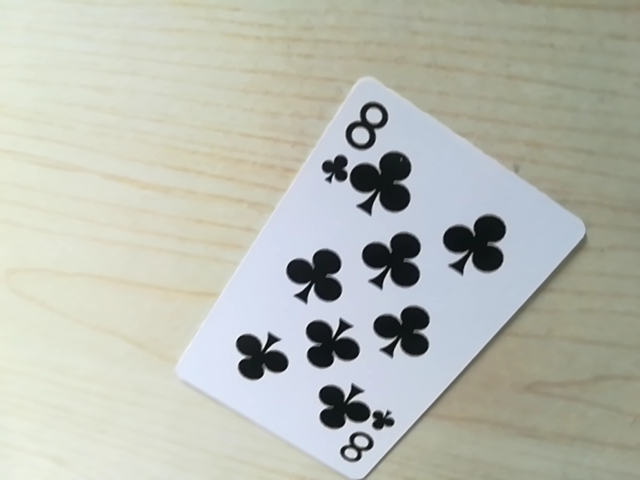mh 8: (316, 89, 399, 181), (325, 410, 398, 472)
